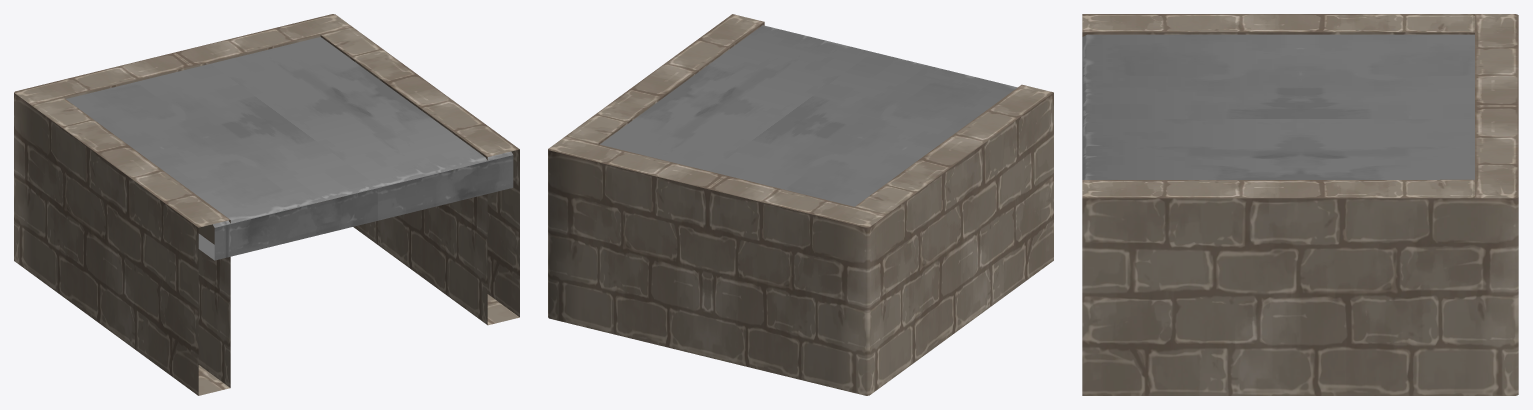
Rendered from Stairs_Exterior_PlatformU.gltf.
3 renders of one model, left to right at view 1: azimuth 30°, elevation 25°; view 2: azimuth 150°, elevation 25°; view 3: azimuth 270°, elevation 25°, orthographic. The views are drawn at different scales.
Visible parts, largest first — view 1: Stairs_Exterior_PlatformU; view 2: Stairs_Exterior_PlatformU; view 3: Stairs_Exterior_PlatformU.
Boxes of the visible parts, box(x1,y1,x2,y2) form: Stairs_Exterior_PlatformU: box(14, 14, 519, 395); Stairs_Exterior_PlatformU: box(548, 14, 1053, 395); Stairs_Exterior_PlatformU: box(1082, 14, 1518, 395).
Size of the model in its own units: 2 by 1 by 2.
Materials: 2 (2 with a texture image).
